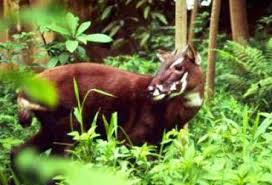sao_la: (16, 44, 206, 156)
